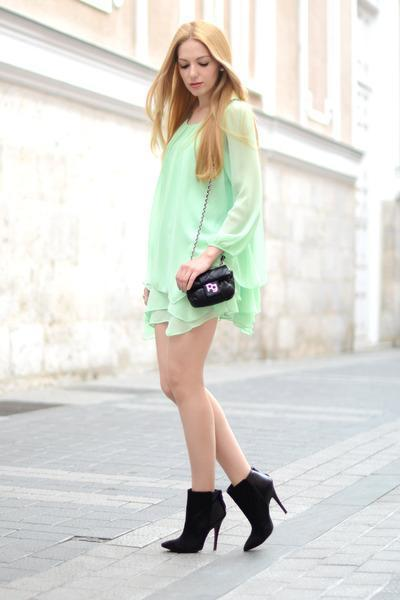bag: (186, 271, 235, 307)
dress: (143, 108, 264, 334)
shoe: (161, 472, 275, 553)
